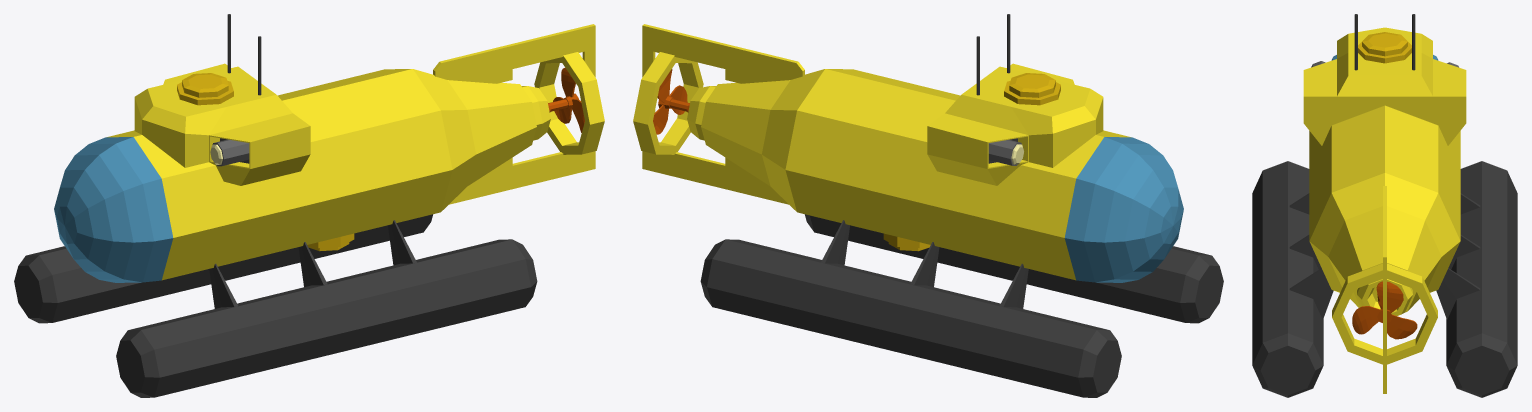
The model's file is submarine_wip.fbx.
3 views of the same model, side by side, from view 1: azimuth 30°, elevation 25°; view 2: azimuth 150°, elevation 25°; view 3: azimuth 270°, elevation 25° (orthographic). The views are drawn at different scales.
Visible parts, largest first — view 1: Sphere.002; view 2: Sphere.002; view 3: Sphere.002.
Boxes of the visible parts, left/top/right/bottom form: Sphere.002: left=14, top=14, right=604, bottom=397; Sphere.002: left=633, top=14, right=1223, bottom=397; Sphere.002: left=1252, top=14, right=1517, bottom=397.
Bounding box in the file's own units: 347 × 186 × 158.
